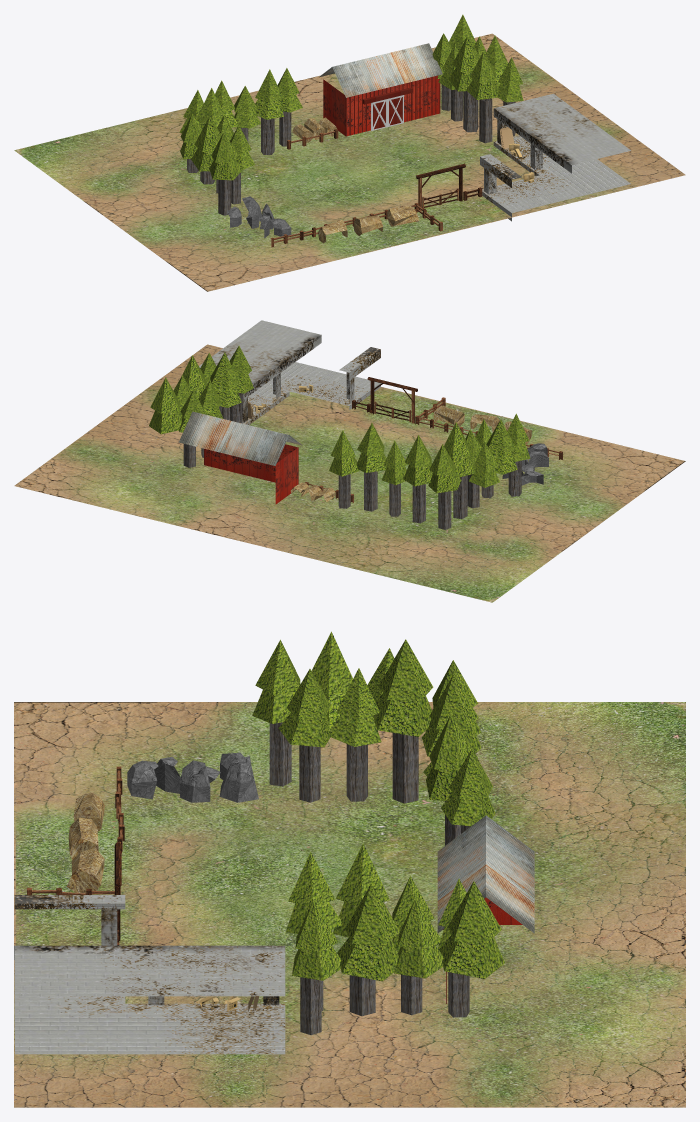
Rendered from LevelDisplayMesh.obj.
3 views of the same model, one above another, from view 1: azimuth 30°, elevation 25°; view 2: azimuth 150°, elevation 25°; view 3: azimuth 270°, elevation 25° (orthographic). The views are drawn at different scales.
Parts seen in each view (by area): view 1: World; view 2: World; view 3: World.
Boxes of the visible parts, box(x1,y1,x2,y2) form: World: box(14, 14, 685, 291); World: box(14, 320, 685, 602); World: box(14, 631, 685, 1107).
Bounding box in the file's own units: 60 × 11.84 × 42.
Materials: 13 (13 with a texture image).
